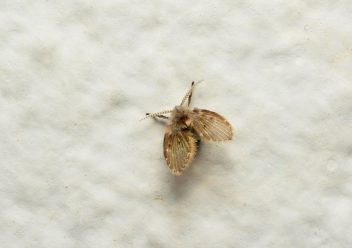phorid fly: (117, 77, 248, 177)
